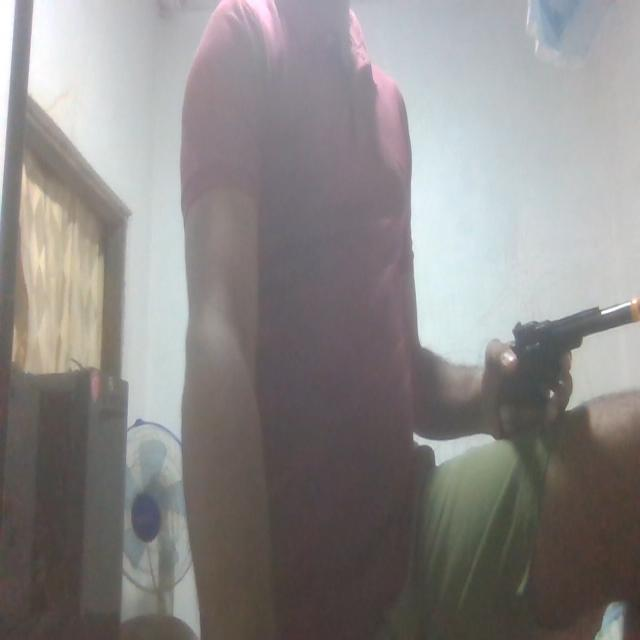Gun_Holder: (492, 292, 640, 458)
Person: (172, 0, 640, 640)
